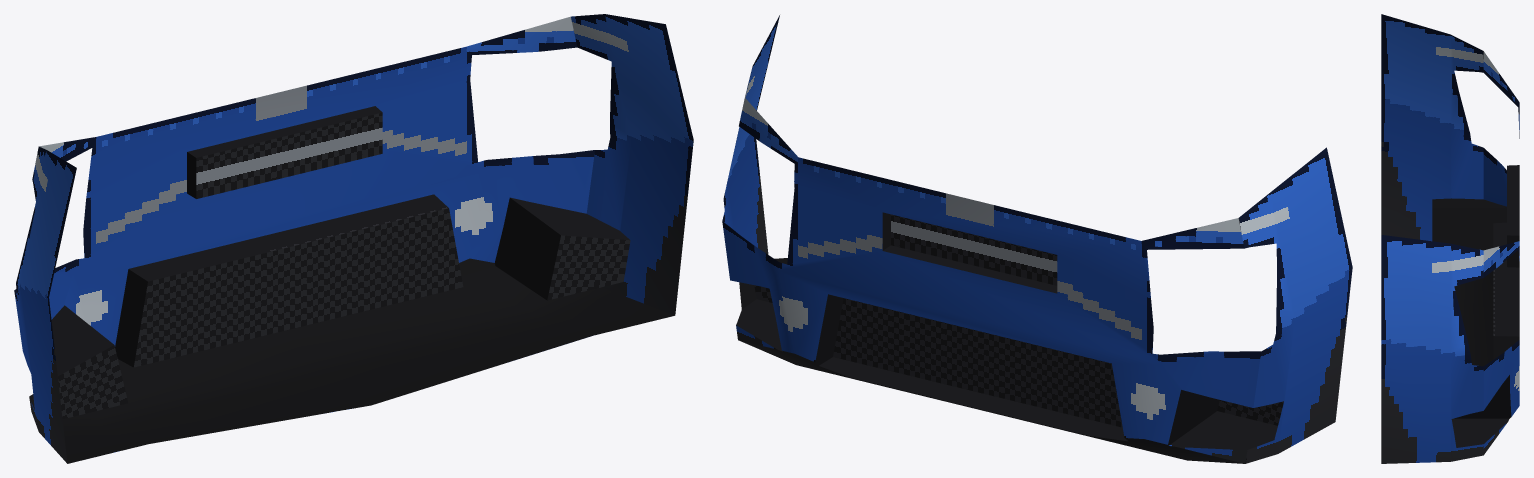
The model's file is bumper_F_sport.glb.
3 views of the same model, side by side, from view 1: azimuth 30°, elevation 25°; view 2: azimuth 150°, elevation 25°; view 3: azimuth 270°, elevation 25° (orthographic). The views are drawn at different scales.
Visible parts, largest first — view 1: bumper_F_sport; view 2: bumper_F_sport; view 3: bumper_F_sport.
Boxes of the visible parts, bbox=[...] form: bumper_F_sport: bbox=[14, 14, 693, 463]; bumper_F_sport: bbox=[722, 15, 1352, 463]; bumper_F_sport: bbox=[1381, 14, 1519, 463].
Size of the model in its own units: 1.75 by 0.8056 by 0.4225.
Materials: 1 (1 with a texture image).
